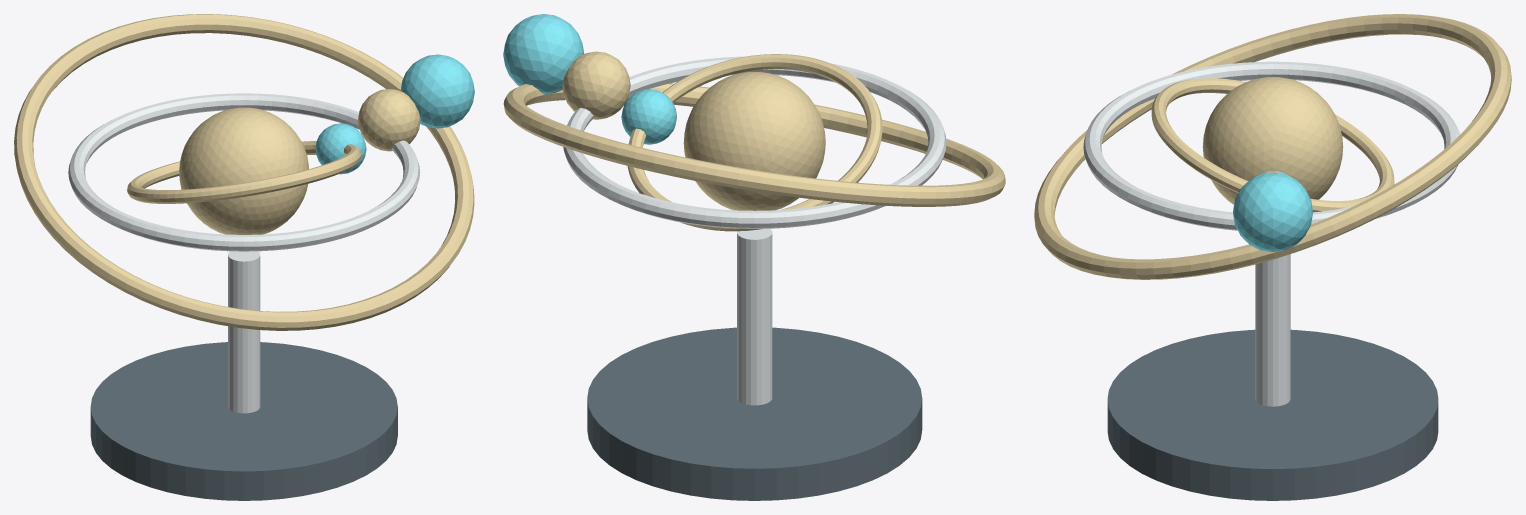
The model's file is solar-orrery.glb.
The picture shows the model from 3 angles, left to right: view 1: azimuth 30°, elevation 25°; view 2: azimuth 150°, elevation 25°; view 3: azimuth 270°, elevation 25°; orthographic projection. The views are drawn at different scales.
Visible parts, largest first — view 1: solar-orrery-8, solar-orrery-4, solar-orrery-2, solar-orrery-6, solar-orrery-7, solar-orrery-0, solar-orrery-5, solar-orrery-3, solar-orrery-1; view 2: solar-orrery-8, solar-orrery-4, solar-orrery-6, solar-orrery-2, solar-orrery-7, solar-orrery-0, solar-orrery-5, solar-orrery-3, solar-orrery-1; view 3: solar-orrery-8, solar-orrery-4, solar-orrery-6, solar-orrery-2, solar-orrery-7, solar-orrery-0, solar-orrery-5.
Part boxes in pixels (left/top/right/bottom): solar-orrery-8: left=90, top=342, right=397, bottom=500; solar-orrery-4: left=14, top=14, right=474, bottom=330; solar-orrery-2: left=68, top=93, right=419, bottom=251; solar-orrery-6: left=179, top=107, right=308, bottom=234; solar-orrery-7: left=228, top=251, right=260, bottom=413; solar-orrery-0: left=127, top=141, right=361, bottom=203; solar-orrery-5: left=400, top=54, right=474, bottom=128; solar-orrery-3: left=358, top=89, right=420, bottom=151; solar-orrery-1: left=315, top=123, right=366, bottom=174; solar-orrery-8: left=587, top=327, right=922, bottom=500; solar-orrery-4: left=503, top=83, right=1005, bottom=206; solar-orrery-6: left=683, top=72, right=825, bottom=210; solar-orrery-2: left=563, top=56, right=946, bottom=228; solar-orrery-7: left=737, top=228, right=772, bottom=405; solar-orrery-0: left=627, top=54, right=882, bottom=231; solar-orrery-5: left=503, top=14, right=584, bottom=94; solar-orrery-3: left=562, top=51, right=630, bottom=119; solar-orrery-1: left=621, top=89, right=676, bottom=144; solar-orrery-8: left=1107, top=329, right=1438, bottom=500; solar-orrery-4: left=1034, top=14, right=1511, bottom=279; solar-orrery-6: left=1202, top=77, right=1343, bottom=204; solar-orrery-2: left=1083, top=61, right=1459, bottom=230; solar-orrery-7: left=1255, top=254, right=1290, bottom=406; solar-orrery-0: left=1151, top=78, right=1394, bottom=212; solar-orrery-5: left=1233, top=172, right=1312, bottom=251.
Size of the model in its own units: 2.12 by 1.59 by 1.9.
